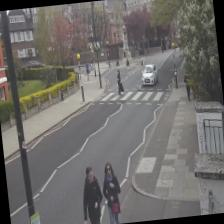person: (99, 160, 124, 224), (78, 166, 105, 224)
